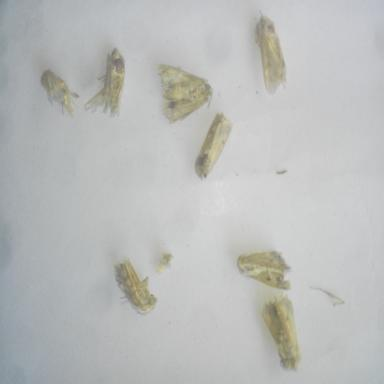abw: (154, 57, 216, 128), (259, 288, 308, 376), (83, 44, 131, 126), (253, 7, 294, 101), (192, 109, 236, 188), (236, 242, 296, 296), (111, 252, 158, 317), (37, 63, 83, 121)
